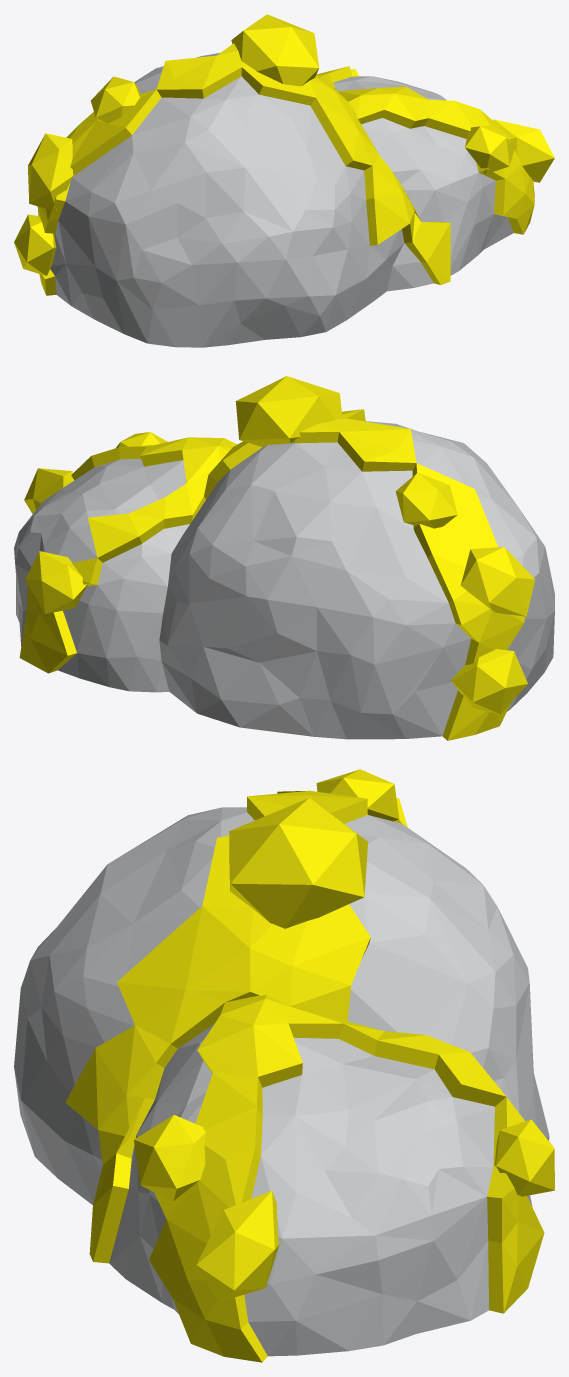
The model's file is GoldOre2.fbx.
3 views of the same model, one above another, from view 1: azimuth 30°, elevation 25°; view 2: azimuth 150°, elevation 25°; view 3: azimuth 270°, elevation 25° (orthographic). The views are drawn at different scales.
Visible parts, largest first — view 1: GoldOre2; view 2: GoldOre2; view 3: GoldOre2.
Boxes of the visible parts, left/top/right/bottom form: GoldOre2: left=14, top=14, right=554, bottom=347; GoldOre2: left=14, top=376, right=554, bottom=740; GoldOre2: left=14, top=769, right=554, bottom=1362.
Bounding box in the file's own units: 2.62 × 1.22 × 1.63.
